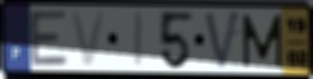5: (157, 10, 196, 70)
E: (28, 8, 71, 68)
I: (133, 11, 145, 69)
M: (240, 13, 284, 70)
V: (202, 8, 242, 72), (68, 10, 109, 69)
